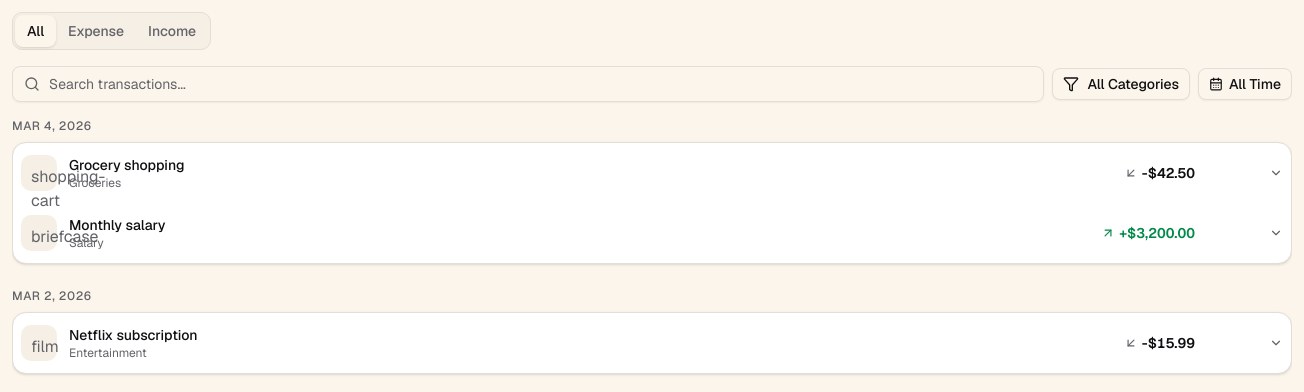
Scenario: TransactionList › filters by income type
This screenshot has width=1304, height=392.
Click the button "income". click: (172, 31)
box: [136,15,208,47]
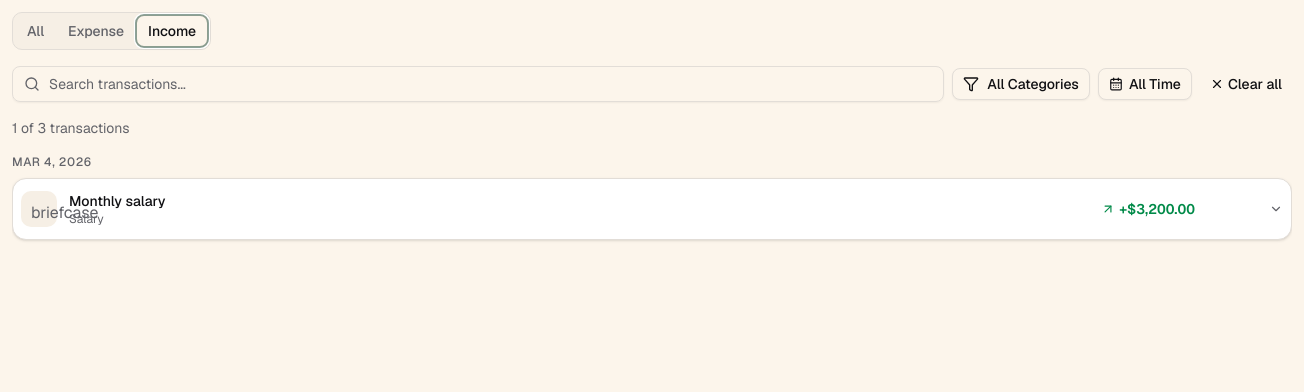
Expected: the text "Monthly salary" is shown, [69,192,166,210]
Expected: the button "Grocery shopping" is gone
Expected: the button "Netflix subscription" is gone
